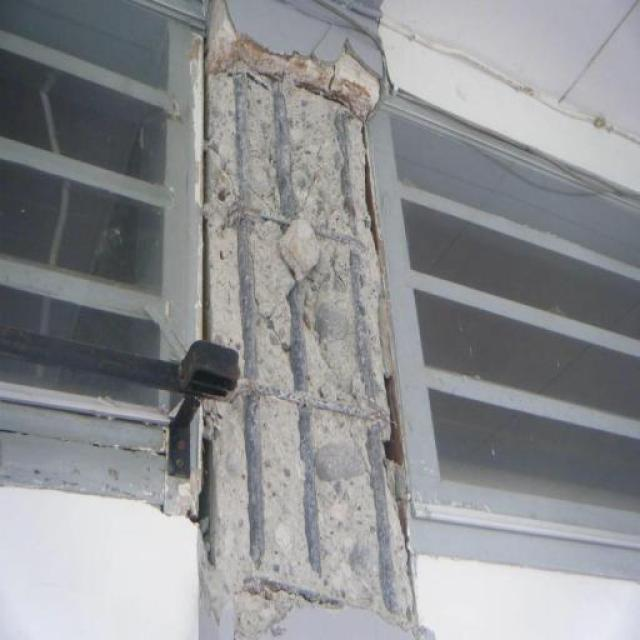D0w0: (200, 2, 415, 636)
